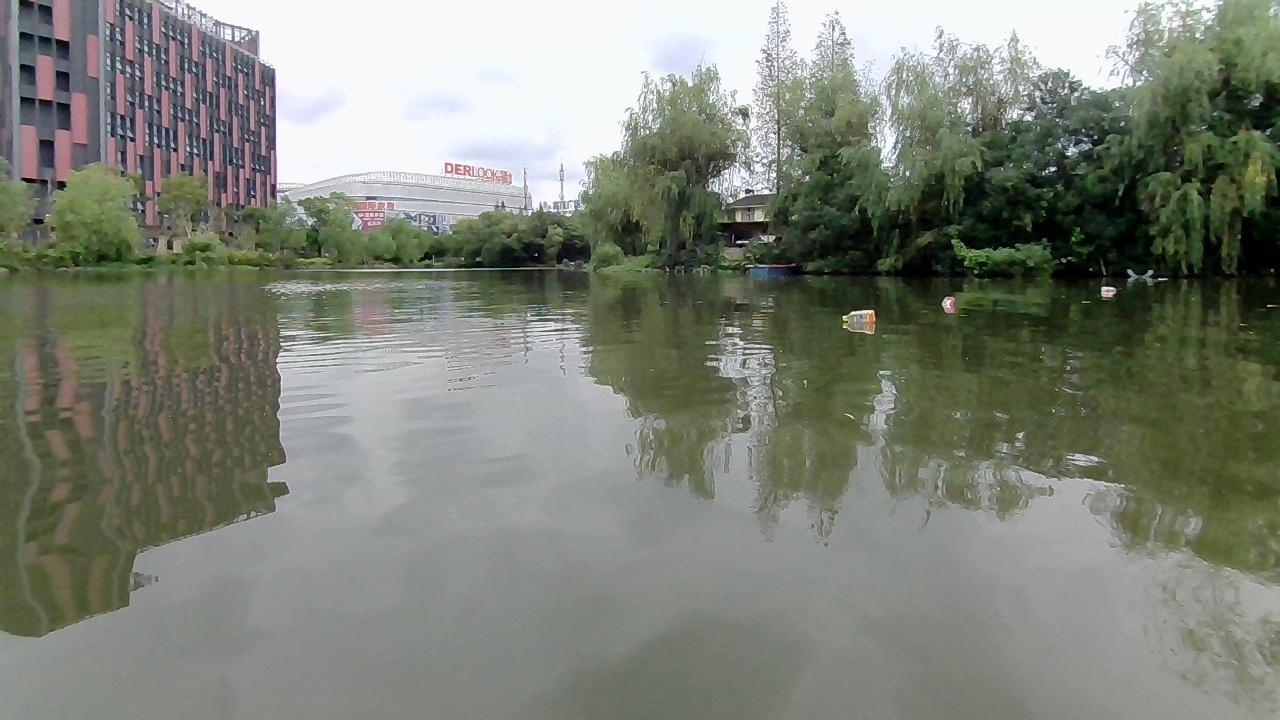bottle: (838, 307, 876, 329), (941, 294, 953, 311), (1098, 285, 1117, 294)
